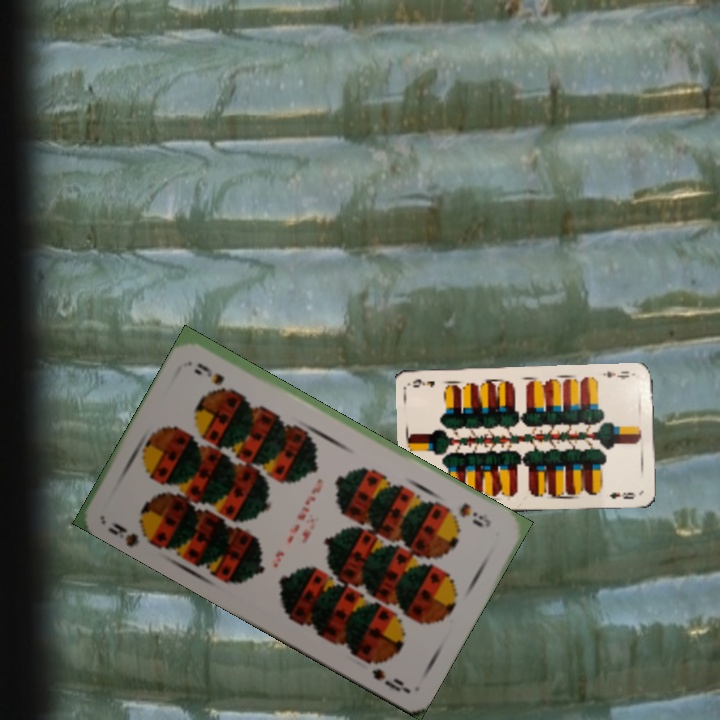E9: (599, 367, 632, 382)
S9: (104, 517, 159, 549), (455, 499, 494, 530)
